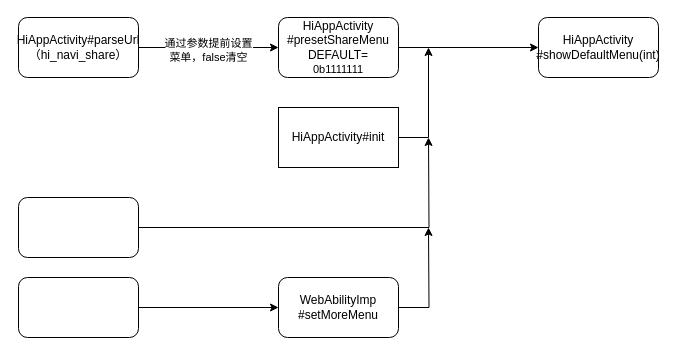
Some shapes in this 677 by 355 pixel diagram are drawn without their labels. Each missing label, with the centre of its shape:
NativeMenuModule #setDefault: [78,227]
NativeMenuModule #setMore: [78,307]
